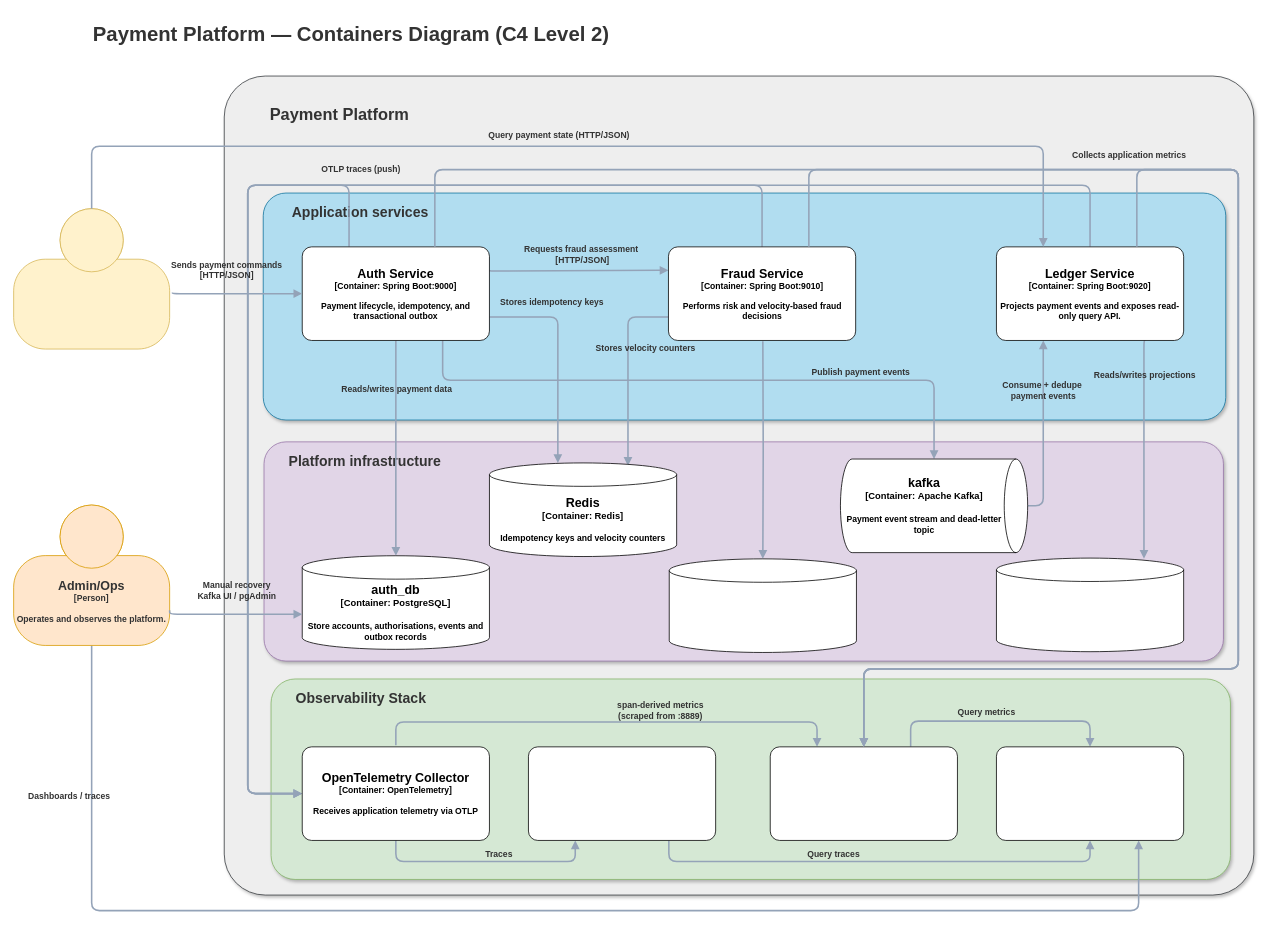
The diagram is 1272 pixels wide and 931 high, and some of its shapes have lost their labels. Each missing label, with the centre of its shape:
"API Consumer [Person] Client application or API tooling" belongs at (x=91, y=278).
"fraud_db [Container: PostgreSQL] Store fraud-service data." belongs at (x=762, y=605).
"Grafana [Container: Grafana] Visualises metrics and traces" belongs at (x=1090, y=793).
"ledger_db [Container: PostgreSQL] Stores ledger projections" belongs at (x=1090, y=604).
"Prometheus [Container: Prometheus] Stores and quires metrics." belongs at (x=863, y=793).
"Tempo [Container: Tempo] Stores distributed traces" belongs at (x=622, y=793).
